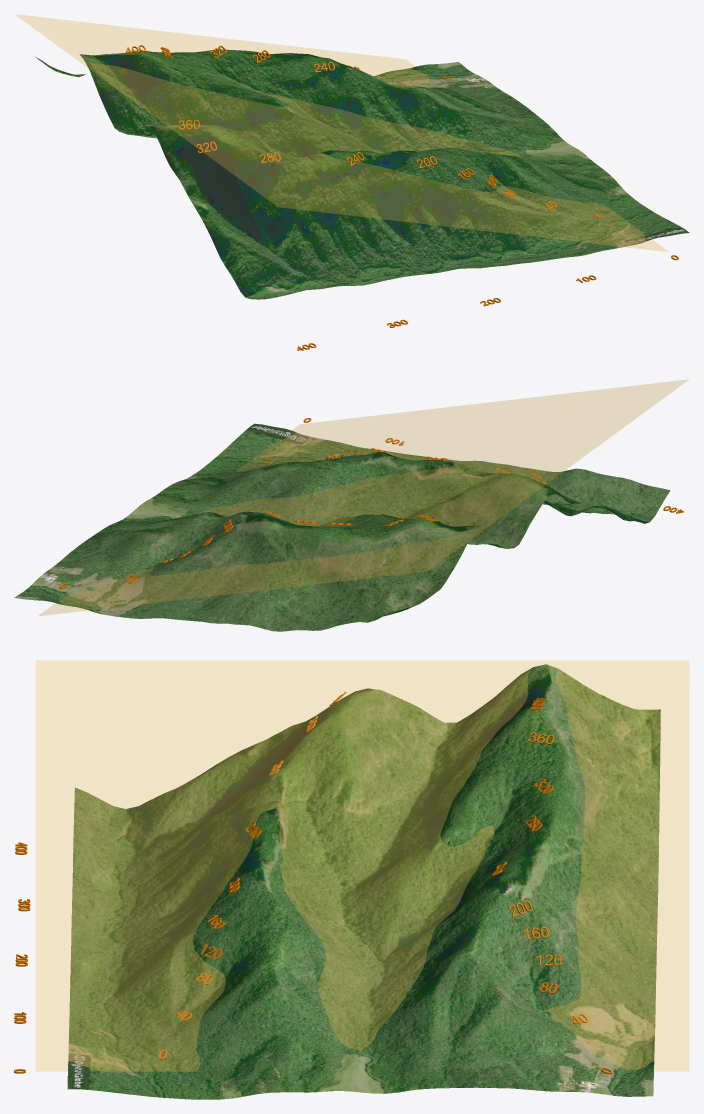
Rendered from RioRastro2.glb.
3 views of the same model, one above another, from view 1: azimuth 30°, elevation 25°; view 2: azimuth 150°, elevation 25°; view 3: azimuth 270°, elevation 25° (orthographic). The views are drawn at different scales.
Visible parts, largest first — view 1: Location Terrain, object 5, object 3; view 2: Location Terrain, object 5, object 3; view 3: Location Terrain, object 5, object 3.
Boxes of the visible parts, x1,y1,x2,y2 form: Location Terrain: [35, 49, 689, 299]; object 5: [15, 14, 668, 251]; object 3: [125, 45, 602, 217]; Location Terrain: [14, 423, 670, 631]; object 5: [39, 379, 688, 615]; object 3: [59, 448, 548, 588]; Location Terrain: [67, 664, 660, 1099]; object 5: [36, 660, 689, 1071]; object 3: [159, 691, 611, 1074].
Bounding box in the file's own units: 2041 × 668 × 2243.
Materials: 4 (1 with a texture image).
